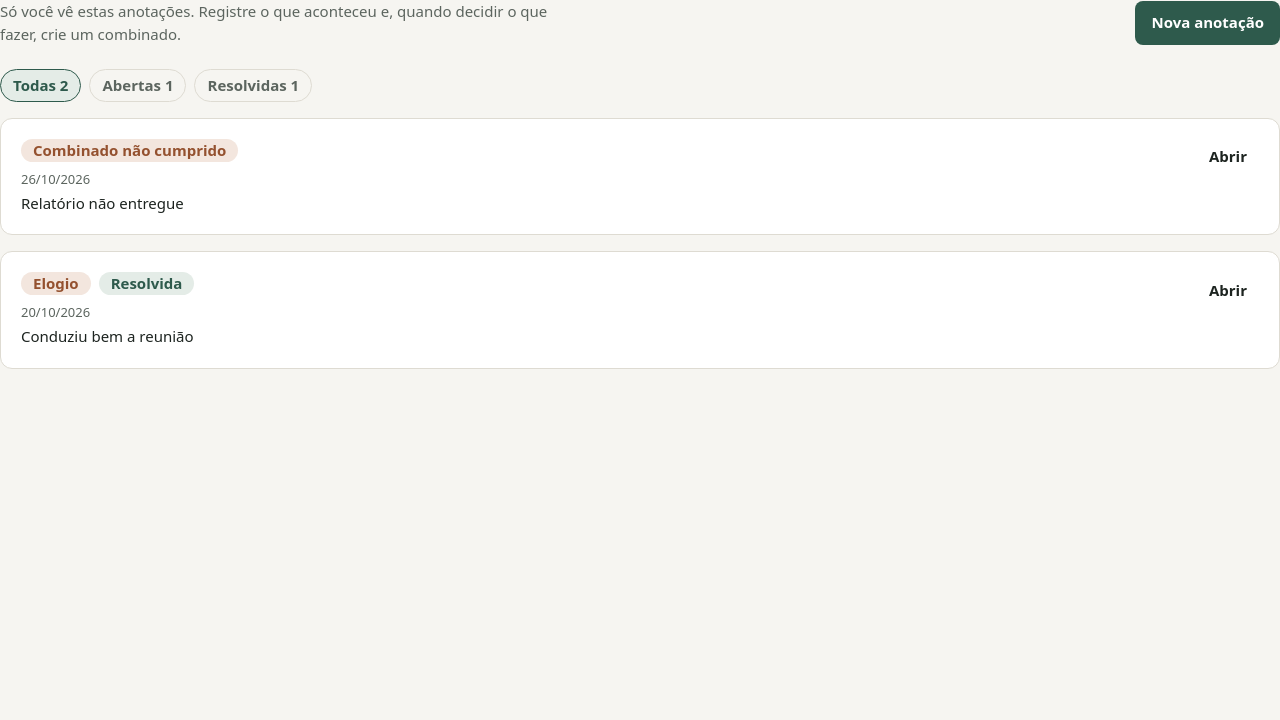
Test: NotesPanel › deve abrir o formulário de nova anotação
This screenshot has width=1280, height=720.
Click the button "Nova anotação" at (1208, 22), box [1136,0,1279,44]
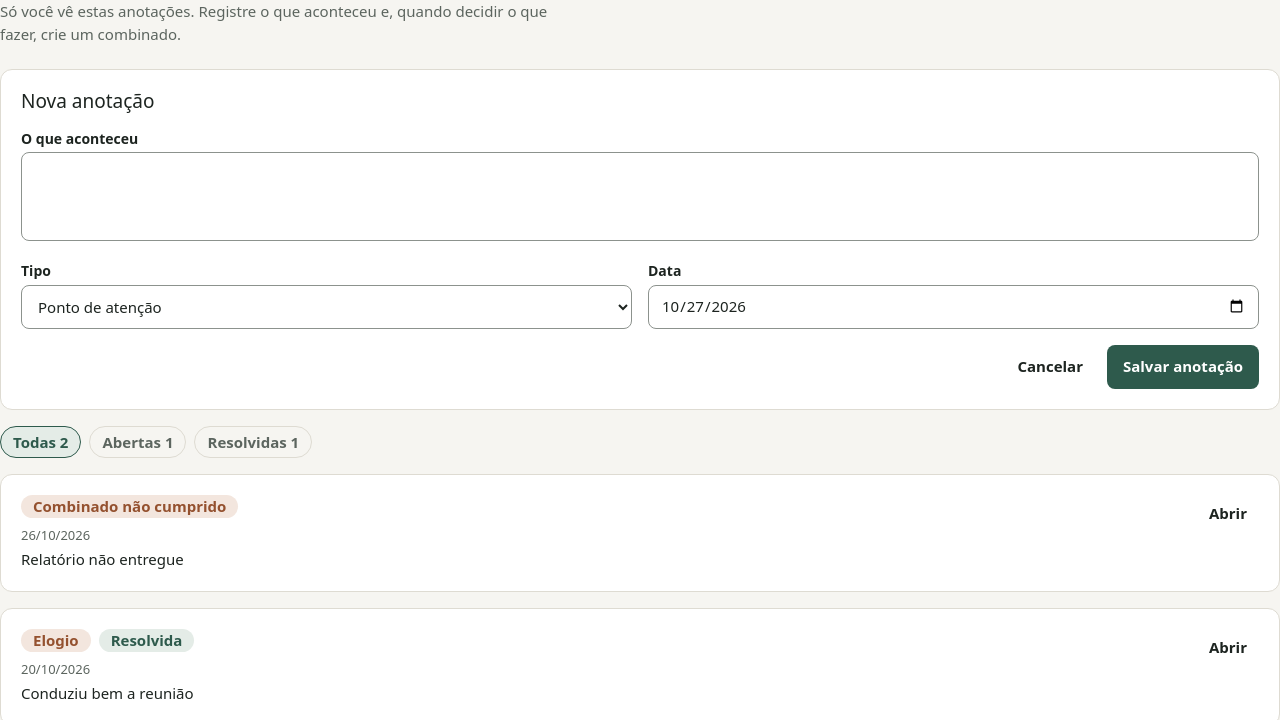
Now the text box labelled "O que aconteceu" is shown, box [21,152,1259,241]
